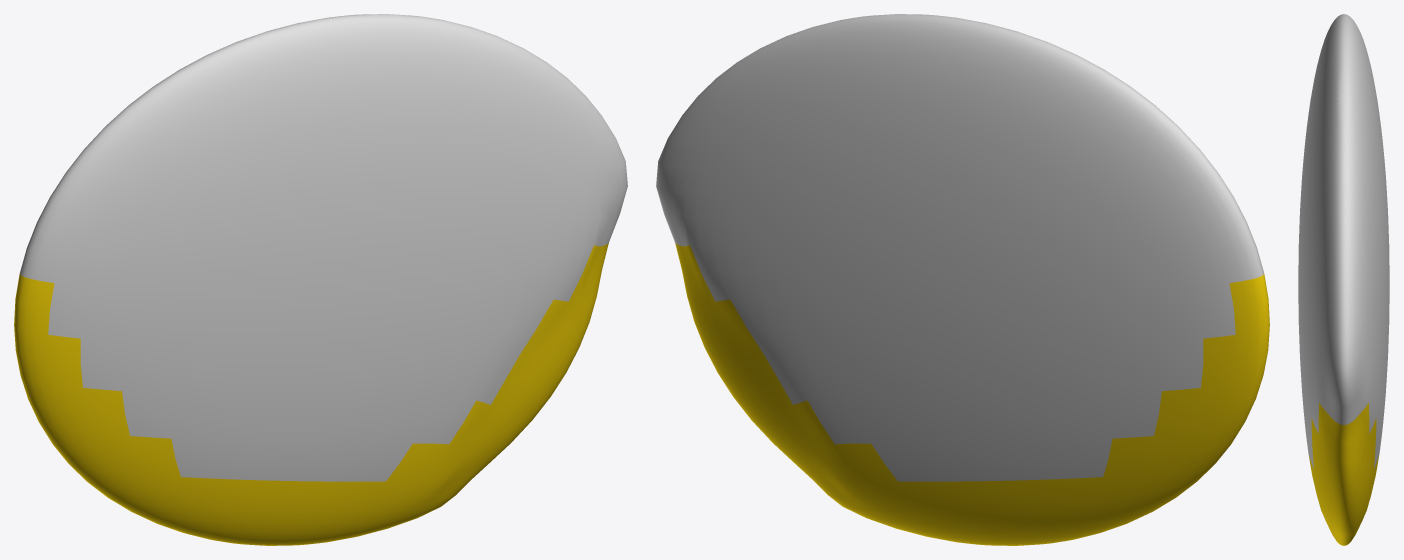
File: wing.dae
3 renders of one model, left to right at view 1: azimuth 30°, elevation 25°; view 2: azimuth 150°, elevation 25°; view 3: azimuth 270°, elevation 25°, orthographic. The views are drawn at different scales.
Parts seen in each view (by area): view 1: wing; view 2: wing; view 3: wing.
Boxes of the visible parts, x1,y1,x2,y2 form: wing: (14, 14, 627, 545); wing: (656, 14, 1269, 545); wing: (1298, 14, 1389, 545).
Bounding box in the file's own units: 1.42 × 0.2172 × 1.17.
